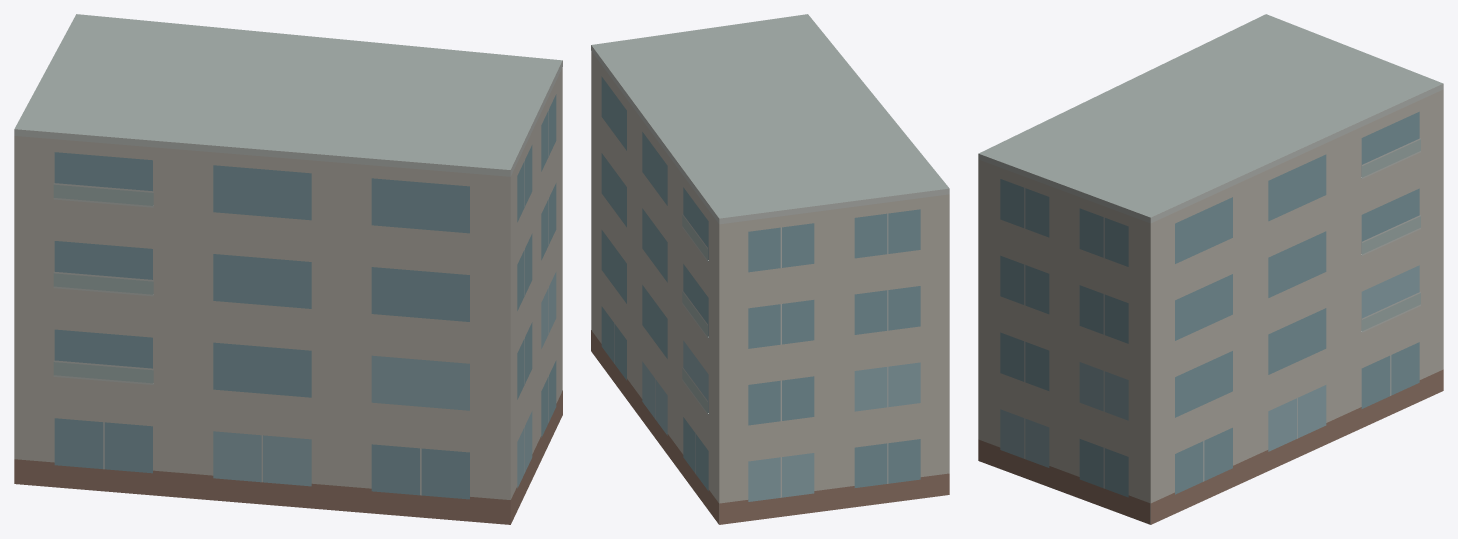
File: survey-upis-33045389.glb
3 views of the same model, side by side, from view 1: azimuth 30°, elevation 25°; view 2: azimuth 150°, elevation 25°; view 3: azimuth 270°, elevation 25° (orthographic). The views are drawn at different scales.
Visible parts, largest first — view 1: survey-upis-33045389.tmp; view 2: survey-upis-33045389.tmp; view 3: survey-upis-33045389.tmp.
Part boxes in pixels (x1,y1,x2,y2): survey-upis-33045389.tmp: (14,14,562,524); survey-upis-33045389.tmp: (591,14,949,524); survey-upis-33045389.tmp: (978,14,1443,524).
Bounding box in the file's own units: 18.34 × 12.9 × 17.71.
